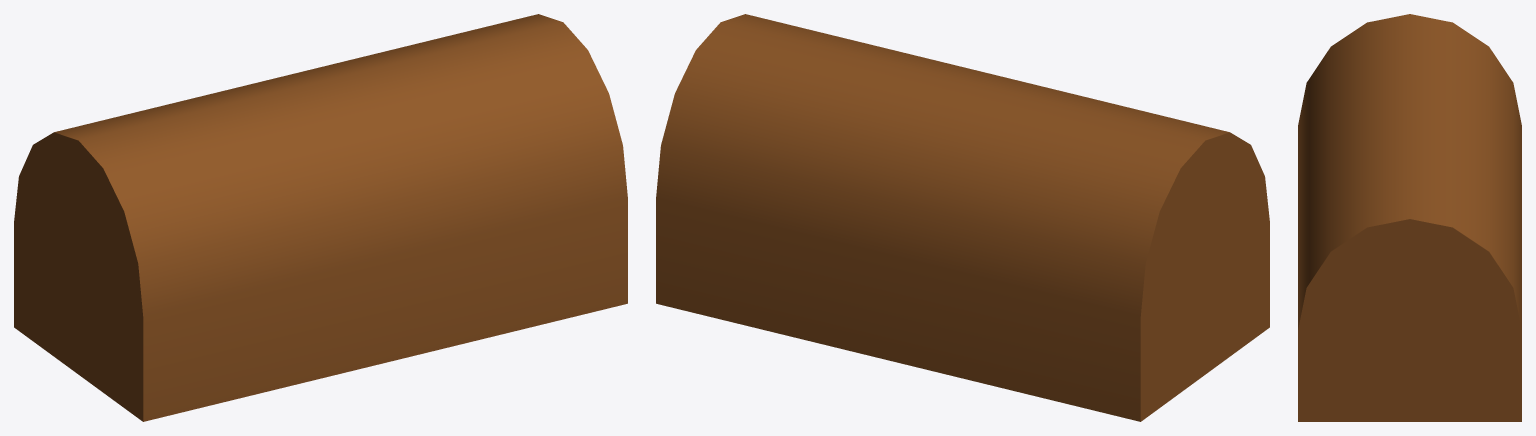
File: Whole_Wheat_Bread.fbx
The picture shows the model from 3 angles, left to right: view 1: azimuth 30°, elevation 25°; view 2: azimuth 150°, elevation 25°; view 3: azimuth 270°, elevation 25°; orthographic projection. The views are drawn at different scales.
Parts seen in each view (by area): view 1: Whole_Wheat_Bread; view 2: Whole_Wheat_Bread; view 3: Whole_Wheat_Bread.
Boxes of the visible parts, x1,y1,x2,y2 form: Whole_Wheat_Bread: (14, 14, 627, 421); Whole_Wheat_Bread: (656, 14, 1269, 421); Whole_Wheat_Bread: (1298, 14, 1521, 421).
Bounding box in the file's own units: 0.26 × 0.12 × 0.12.
